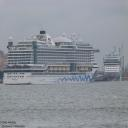cruises: (4, 34, 102, 87), (103, 51, 125, 84)
